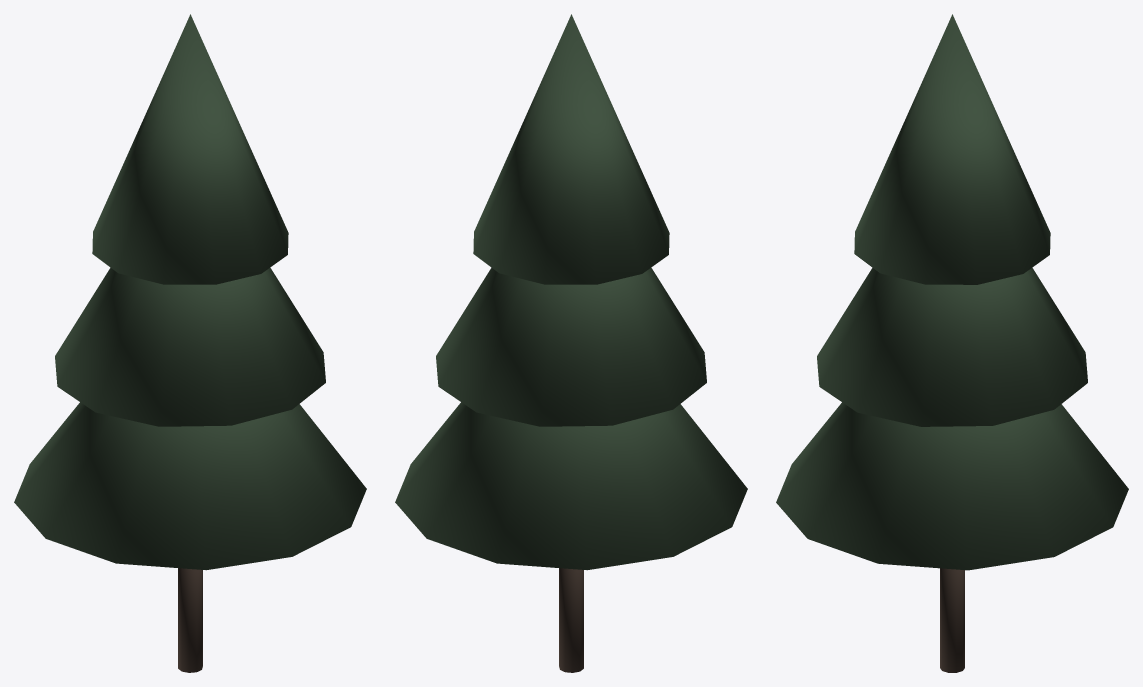
File: pine.glb
3 renders of one model, left to right at view 1: azimuth 30°, elevation 25°; view 2: azimuth 150°, elevation 25°; view 3: azimuth 270°, elevation 25°, orthographic.
Parts seen in each view (by area): view 1: pine; view 2: pine; view 3: pine.
Boxes of the visible parts, left/top/right/bottom form: pine: left=14, top=14, right=366, bottom=672; pine: left=395, top=14, right=747, bottom=672; pine: left=776, top=14, right=1128, bottom=672.
Bounding box in the file's own units: 5.02 × 10.26 × 5.02.
